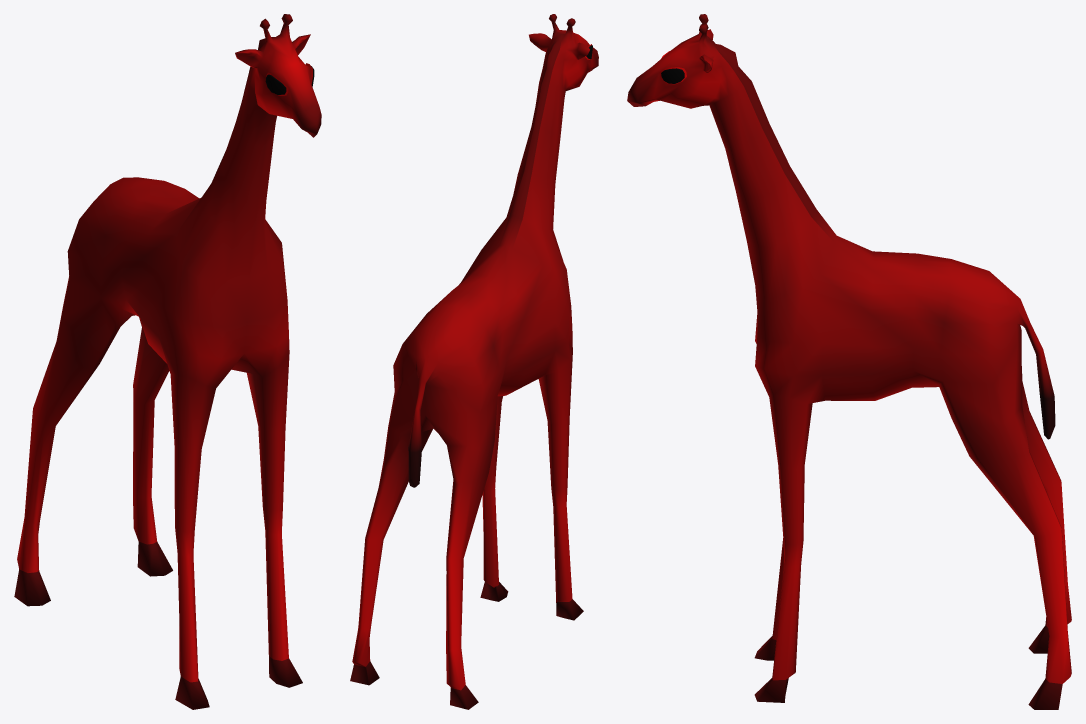
Rendered from Animals_Giraffe.fbx.
3 renders of one model, left to right at view 1: azimuth 30°, elevation 25°; view 2: azimuth 150°, elevation 25°; view 3: azimuth 270°, elevation 25°, orthographic. The views are drawn at different scales.
Visible parts, largest first — view 1: base; view 2: base; view 3: base.
Part boxes in pixels (<box>): base: <box>14,14,321,709</box>; base: <box>350,14,598,709</box>; base: <box>627,14,1071,709</box>.
Bounding box in the file's own units: 109 × 499 × 306.
